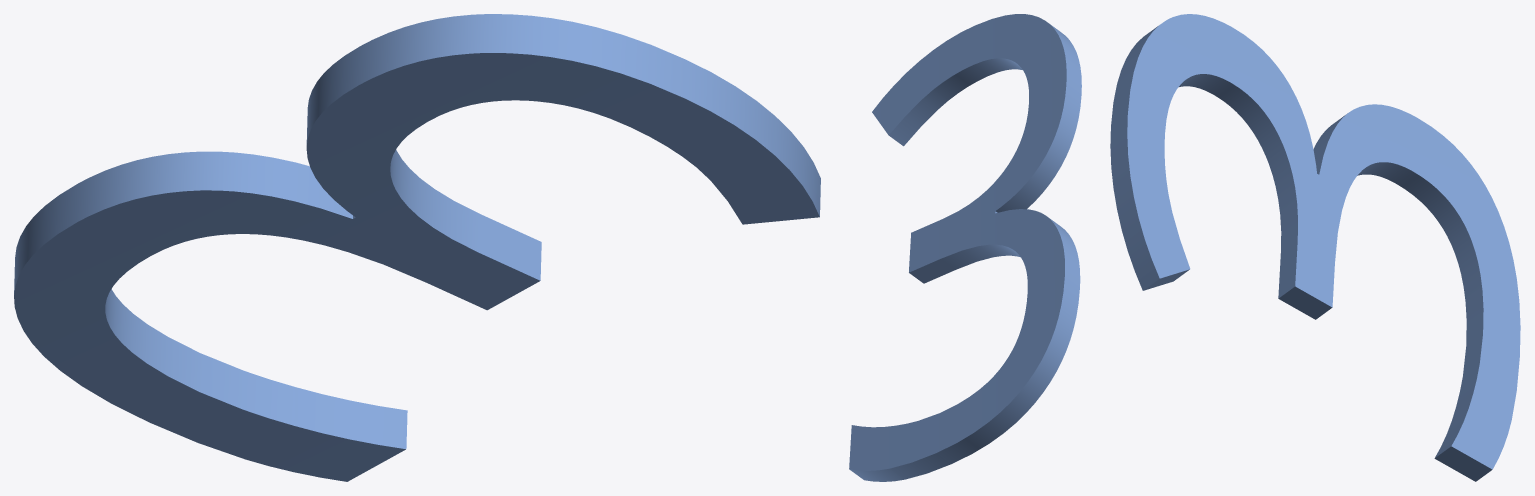
The model's file is New_Number_3.gltf.
The picture shows the model from 3 angles, left to right: view 1: azimuth 30°, elevation 25°; view 2: azimuth 150°, elevation 25°; view 3: azimuth 270°, elevation 25°; orthographic projection. The views are drawn at different scales.
Visible parts, largest first — view 1: Part 372; view 2: Part 372; view 3: Part 372.
Boxes of the visible parts, box(x1,y1,x2,y2) form: Part 372: box(14, 14, 820, 481); Part 372: box(849, 14, 1081, 481); Part 372: box(1110, 14, 1520, 481).
Size of the model in its own units: 0.00406 by 0.00449 by 0.00387.
